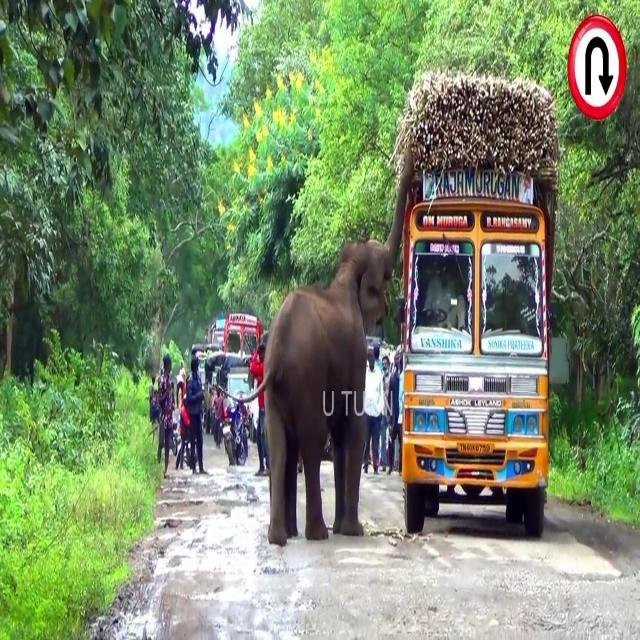Elephant: (231, 150, 415, 548)
